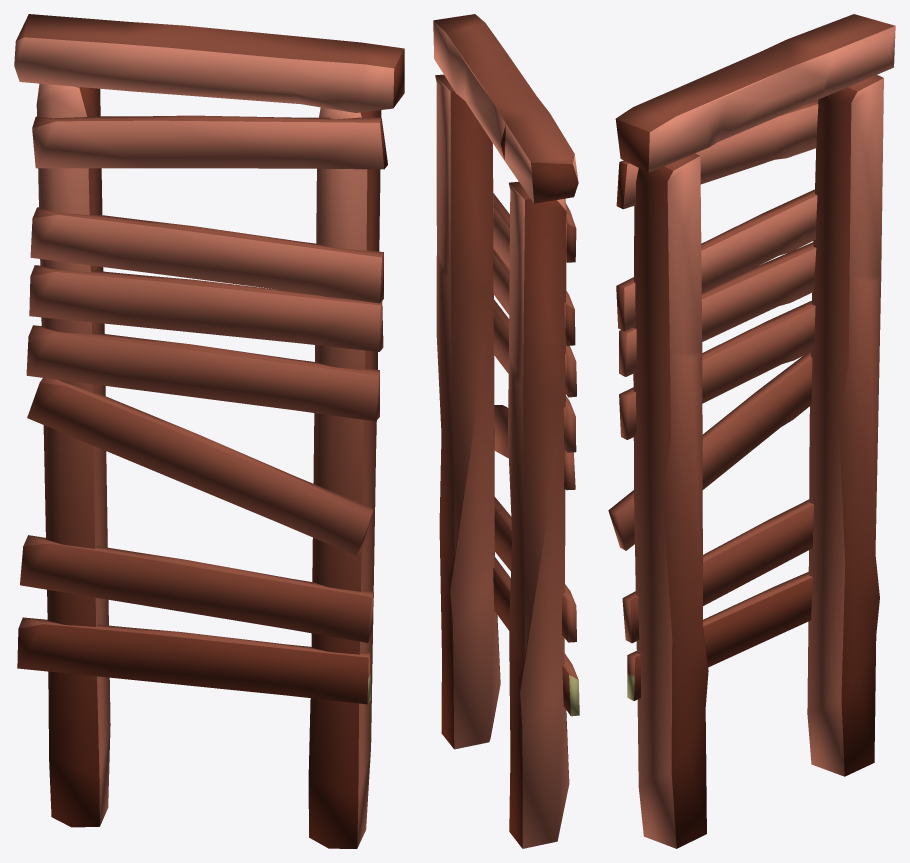
Rendered from Tapia.Prop.1 (1).fbx.
3 renders of one model, left to right at view 1: azimuth 30°, elevation 25°; view 2: azimuth 150°, elevation 25°; view 3: azimuth 270°, elevation 25°, orthographic. The views are drawn at different scales.
Visible parts, largest first — view 1: Tapia; view 2: Tapia; view 3: Tapia.
Part boxes in pixels (left/top/right/bottom): Tapia: left=14, top=14, right=404, bottom=848; Tapia: left=433, top=14, right=579, bottom=848; Tapia: left=608, top=14, right=895, bottom=848.
Size of the model in its own units: 119 by 326 by 116.
